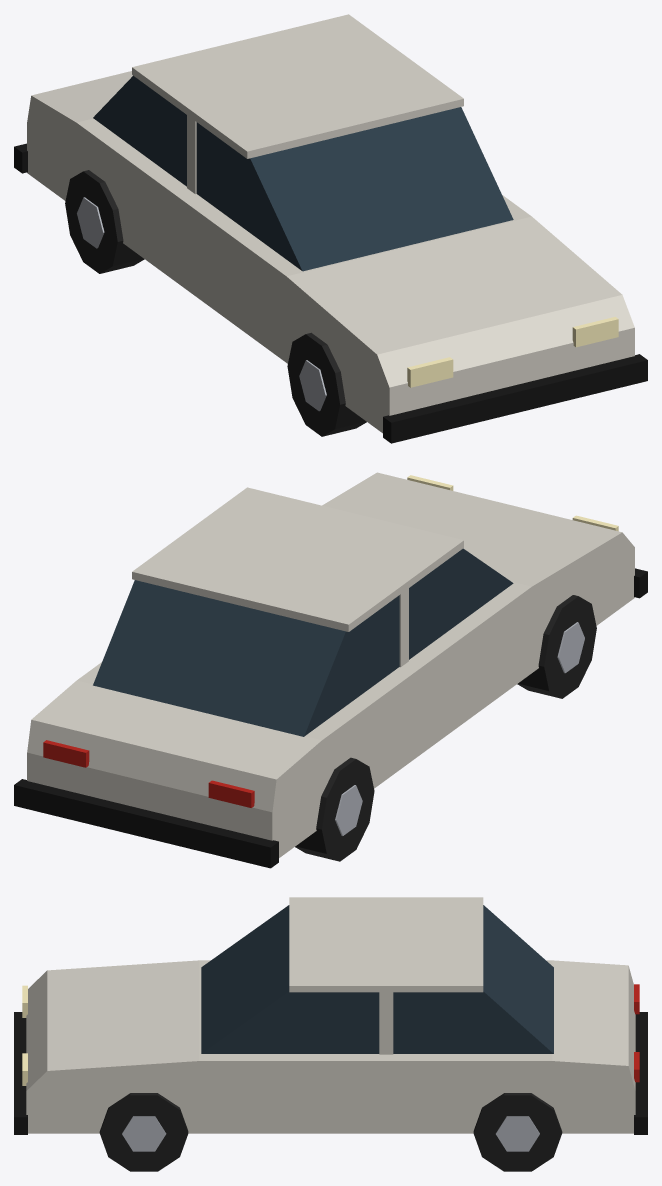
File: sedan.glb
The picture shows the model from 3 angles, top to bottom: view 1: azimuth 30°, elevation 25°; view 2: azimuth 150°, elevation 25°; view 3: azimuth 270°, elevation 25°; orthographic projection. The views are drawn at different scales.
Visible parts, largest first — view 1: Body, Cabin, Wheel_FL, Wheel_RL; view 2: Body, Cabin, Wheel_RL, Wheel_FL; view 3: Body, Cabin, Wheel_FR, Wheel_RR.
Boxes of the visible parts, x1,y1,x2,y2 form: Body: [14, 14, 647, 443]; Cabin: [93, 75, 513, 271]; Wheel_FL: [287, 332, 366, 436]; Wheel_RL: [65, 170, 144, 273]; Body: [14, 472, 647, 868]; Cabin: [93, 548, 513, 736]; Wheel_RL: [295, 757, 374, 861]; Wheel_FL: [517, 595, 596, 698]; Body: [14, 897, 647, 1134]; Cabin: [201, 905, 553, 1053]; Wheel_FR: [99, 1093, 188, 1171]; Wheel_RR: [473, 1093, 562, 1171].
Size of the model in its own units: 1.82 by 1.41 by 4.58.
